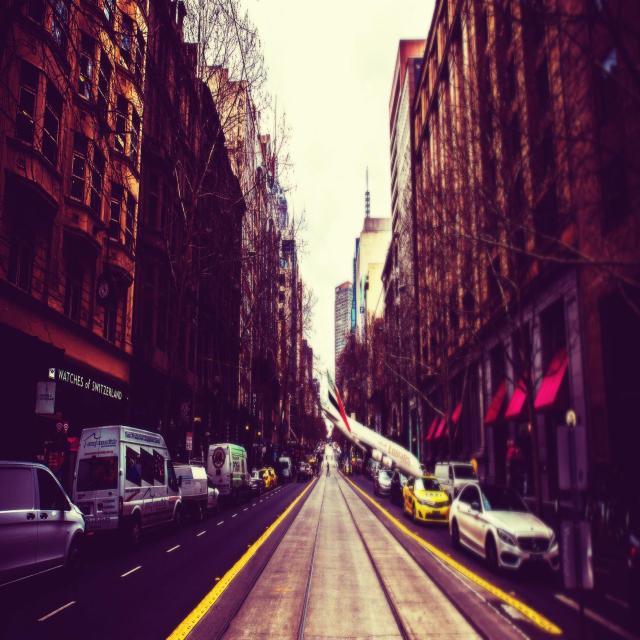airplane: (320, 368, 425, 479)
